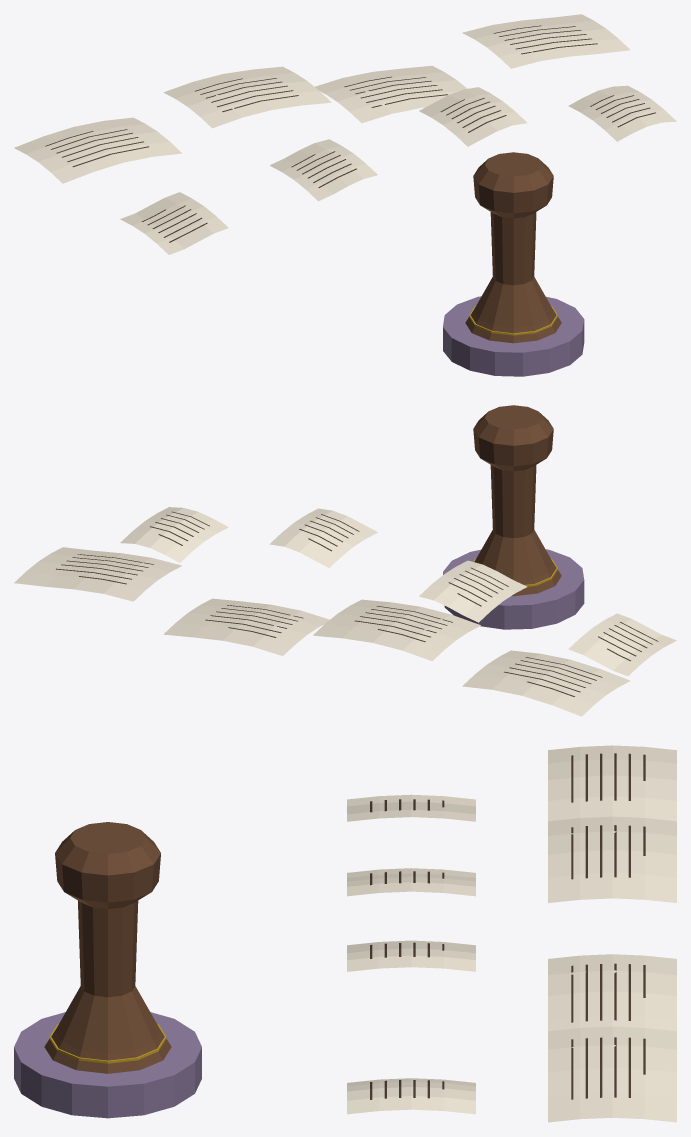
Rendered from R04_Paper_Storm.fbx.
3 renders of one model, top to bottom at view 1: azimuth 30°, elevation 25°; view 2: azimuth 150°, elevation 25°; view 3: azimuth 270°, elevation 25°, orthographic. The views are drawn at different scales.
Parts seen in each view (by area): view 1: Stamp, Paper_05, Paper_06, Paper_08, Paper_07, Paper_01, Paper_02, Paper_03, Paper_04; view 2: Stamp, Paper_05, Paper_06, Paper_07, Paper_08, Paper_01, Paper_02, Paper_03, Paper_04; view 3: Stamp, Paper_08, Paper_06, Paper_07, Paper_05, Paper_04, Paper_03, Paper_02, Paper_01.
Part boxes in pixels (x1,y1,x2,y2): Stamp: (443,152,584,376); Paper_05: (14,117,182,183); Paper_06: (163,66,331,128); Paper_08: (462,14,630,68); Paper_07: (315,65,467,123); Paper_01: (120,192,228,254); Paper_02: (270,139,377,201); Paper_03: (419,87,527,146); Paper_04: (568,85,676,141); Stamp: (443,405,584,629); Paper_05: (462,650,629,716); Paper_06: (313,599,480,661); Paper_07: (163,598,329,655); Paper_08: (14,547,181,601); Paper_01: (568,613,676,676); Paper_02: (419,560,526,622); Paper_03: (269,508,377,567); Paper_04: (120,507,228,562); Stamp: (14,822,201,1118); Paper_08: (548,1026,676,1122); Paper_06: (548,816,676,902); Paper_07: (548,954,676,1031); Paper_05: (548,745,676,821); Paper_04: (347,1078,475,1114); Paper_03: (347,940,475,971); Paper_02: (347,868,475,896); Paper_01: (347,794,475,821).
Size of the model in its own units: 11.4 by 3.5 by 8.74.
